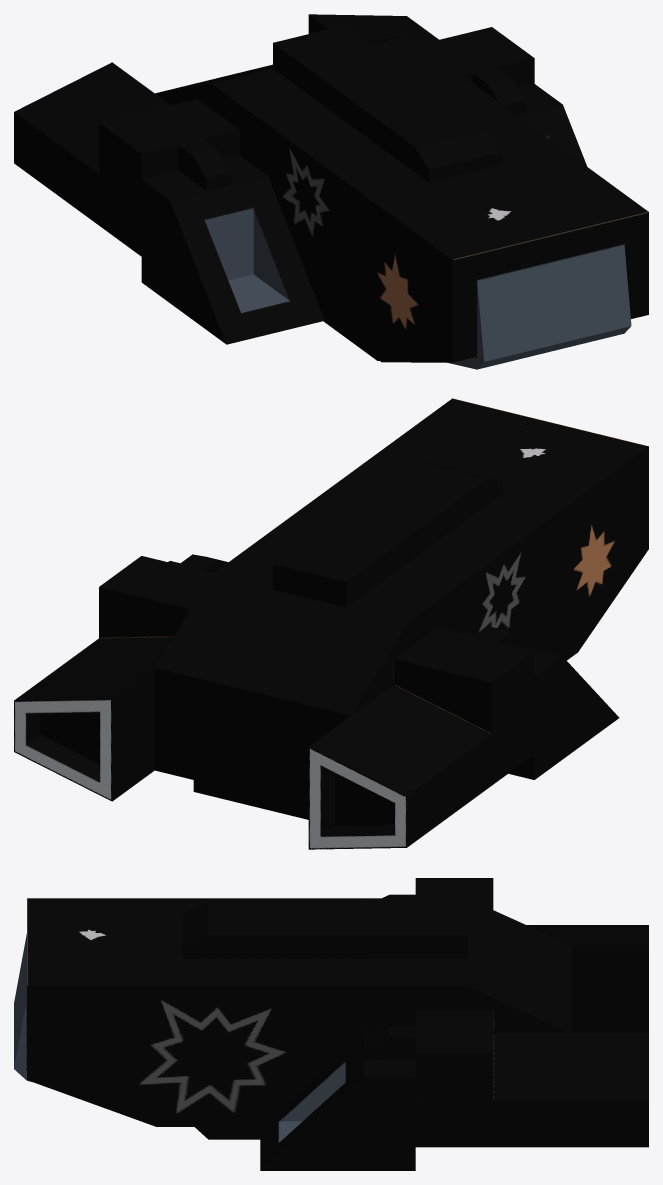
Rendered from craft_cargoA_damaged.fbx.
The picture shows the model from 3 angles, top to bottom: view 1: azimuth 30°, elevation 25°; view 2: azimuth 150°, elevation 25°; view 3: azimuth 270°, elevation 25°; orthographic projection. The views are drawn at different scales.
Visible parts, largest first — view 1: node_id13, node_id9, node_id7; view 2: node_id13, node_id9, node_id11, node_id7; view 3: node_id13, node_id9, node_id7.
Boxes of the visible parts, <box> form: node_id13: <box>14,14,648,362</box>; node_id9: <box>99,27,648,310</box>; node_id7: <box>204,136,631,369</box>; node_id13: <box>14,460,648,847</box>; node_id9: <box>99,398,648,733</box>; node_id11: <box>14,699,406,849</box>; node_id7: <box>26,712,394,835</box>; node_id13: <box>27,898,648,1170</box>; node_id9: <box>27,878,493,1100</box>; node_id7: <box>14,934,345,1142</box>.
Bounding box in the file's own units: 0.512 × 0.256 × 0.784.
4 materials, 4 textured.
